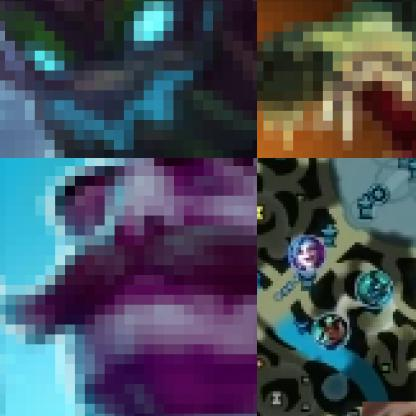Braum: (0, 158, 256, 415)
Hecarim: (354, 267, 397, 309)
Jinx: (286, 232, 326, 274)
Karma: (311, 317, 352, 353)
Maokai: (0, 0, 256, 157)
Renekton: (257, 0, 415, 157)
